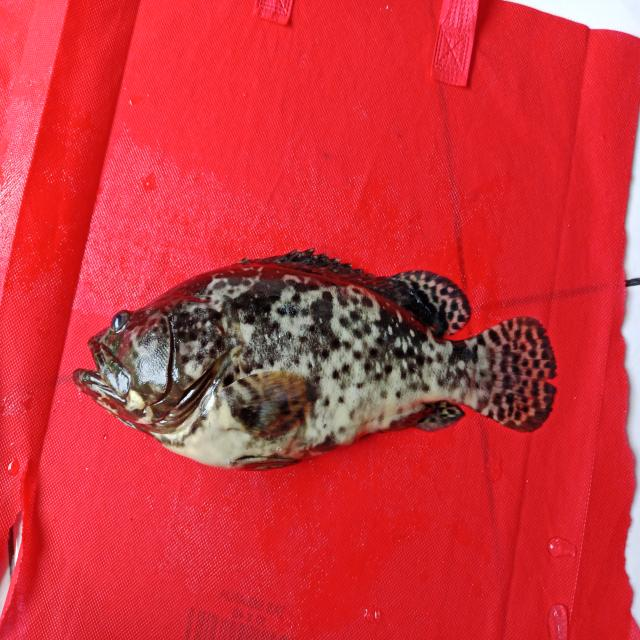ikan: (69, 238, 583, 486)
